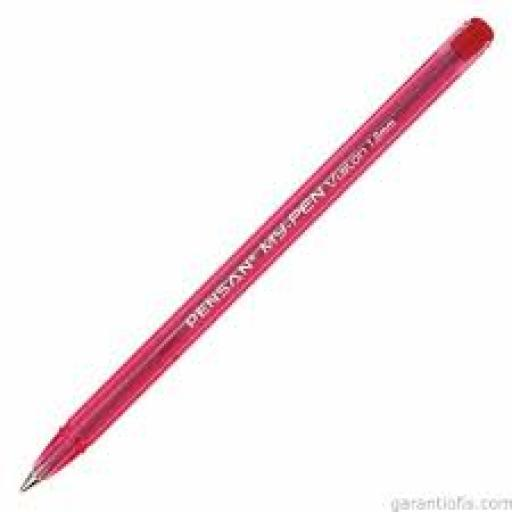tukenmez-kalem: (16, 0, 503, 506)
